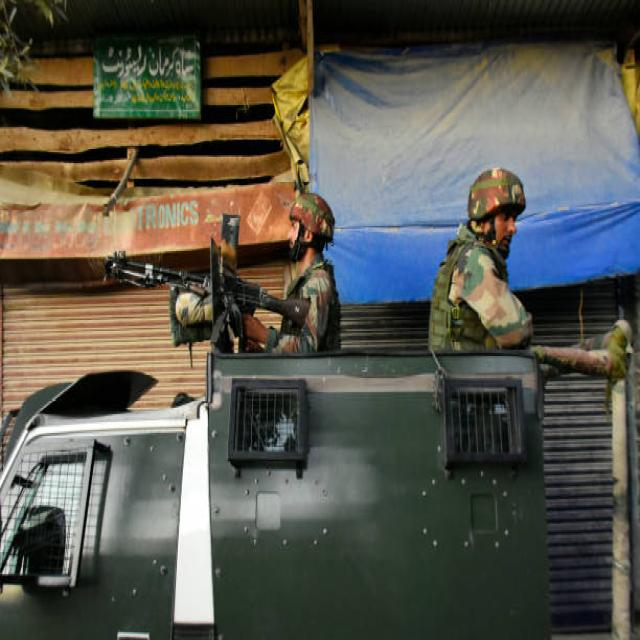soldier: (105, 192, 339, 352), (428, 168, 534, 353)
